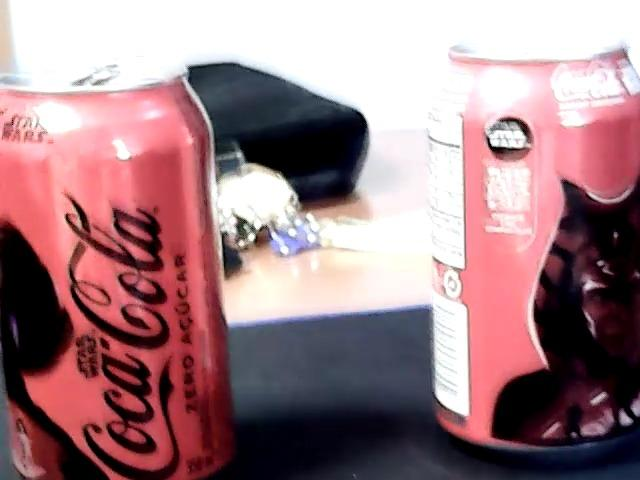coke: (0, 54, 242, 480), (429, 34, 640, 465)
